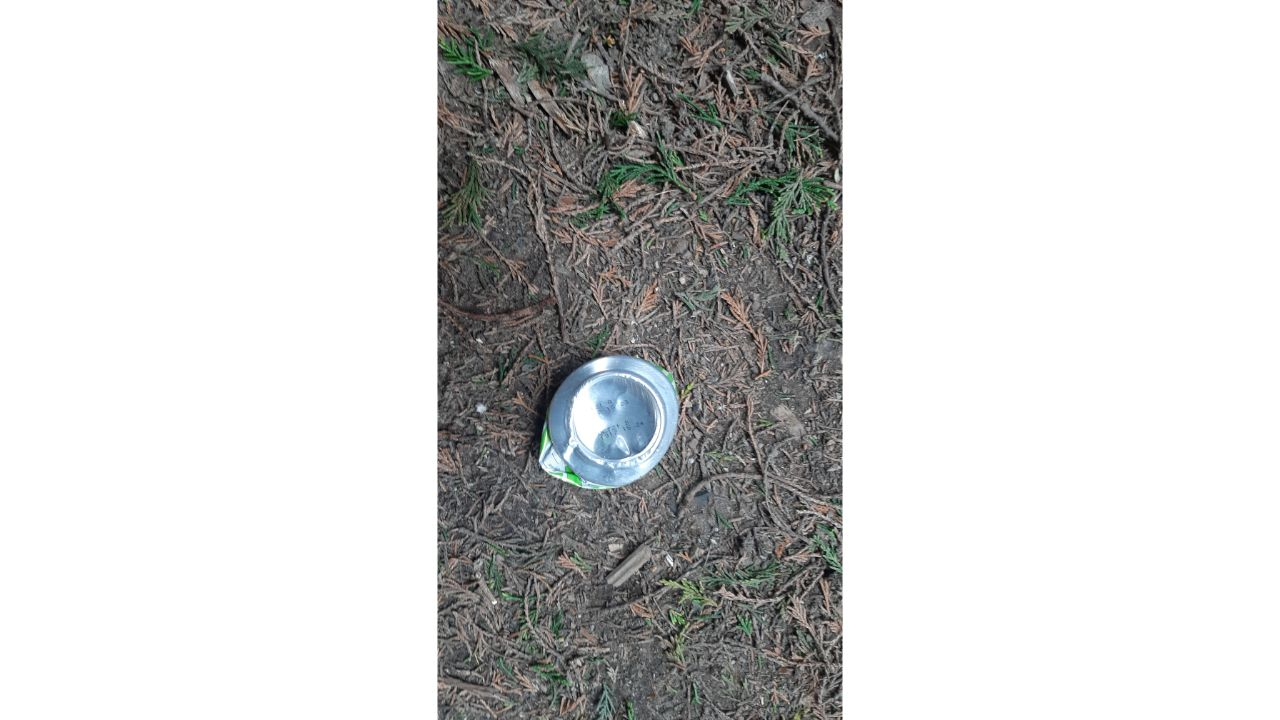Can: (538, 356, 674, 493)
